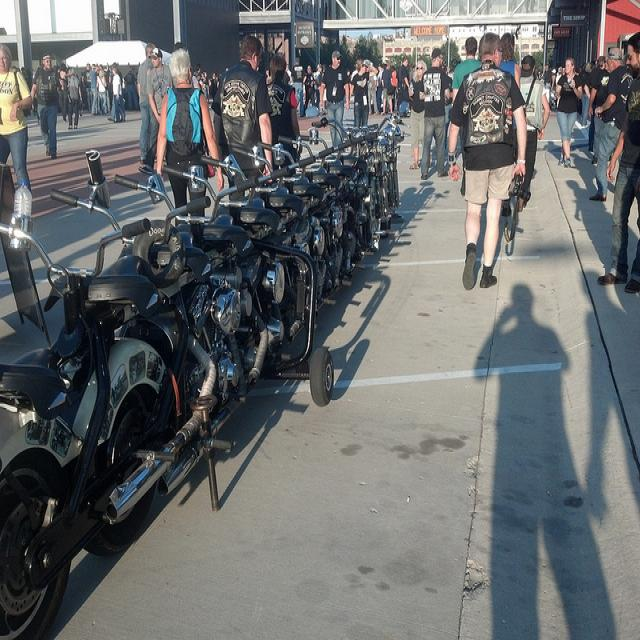motor: (0, 186, 168, 580), (93, 219, 262, 522), (114, 174, 285, 368), (157, 163, 314, 261), (310, 115, 401, 244), (296, 133, 371, 257), (289, 156, 346, 287), (214, 204, 296, 248), (380, 125, 405, 215)
